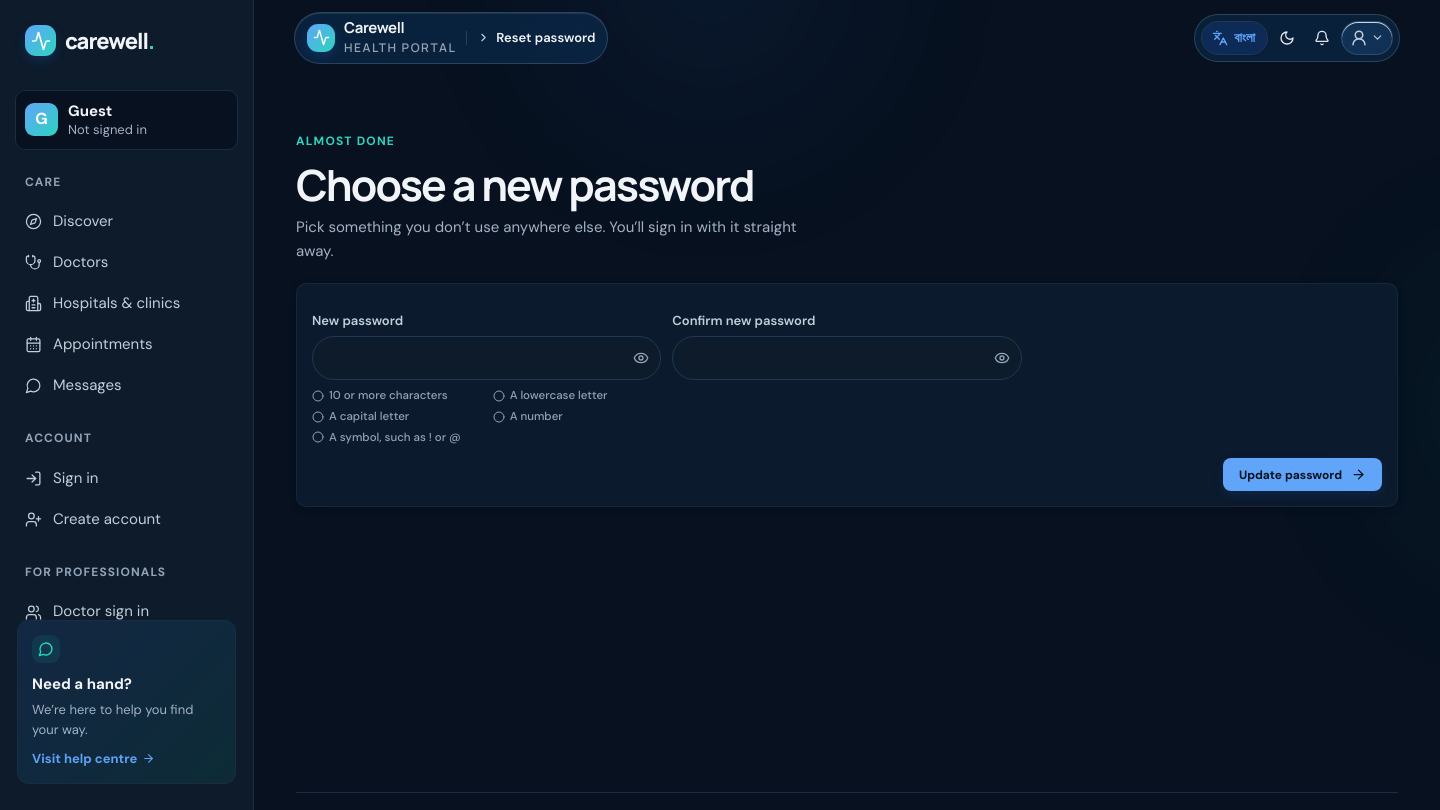
Test: reset password screen › checks the new password before submitting
Type "short" into the password field labelled "New password" at (487, 358), box [312,336,661,380]
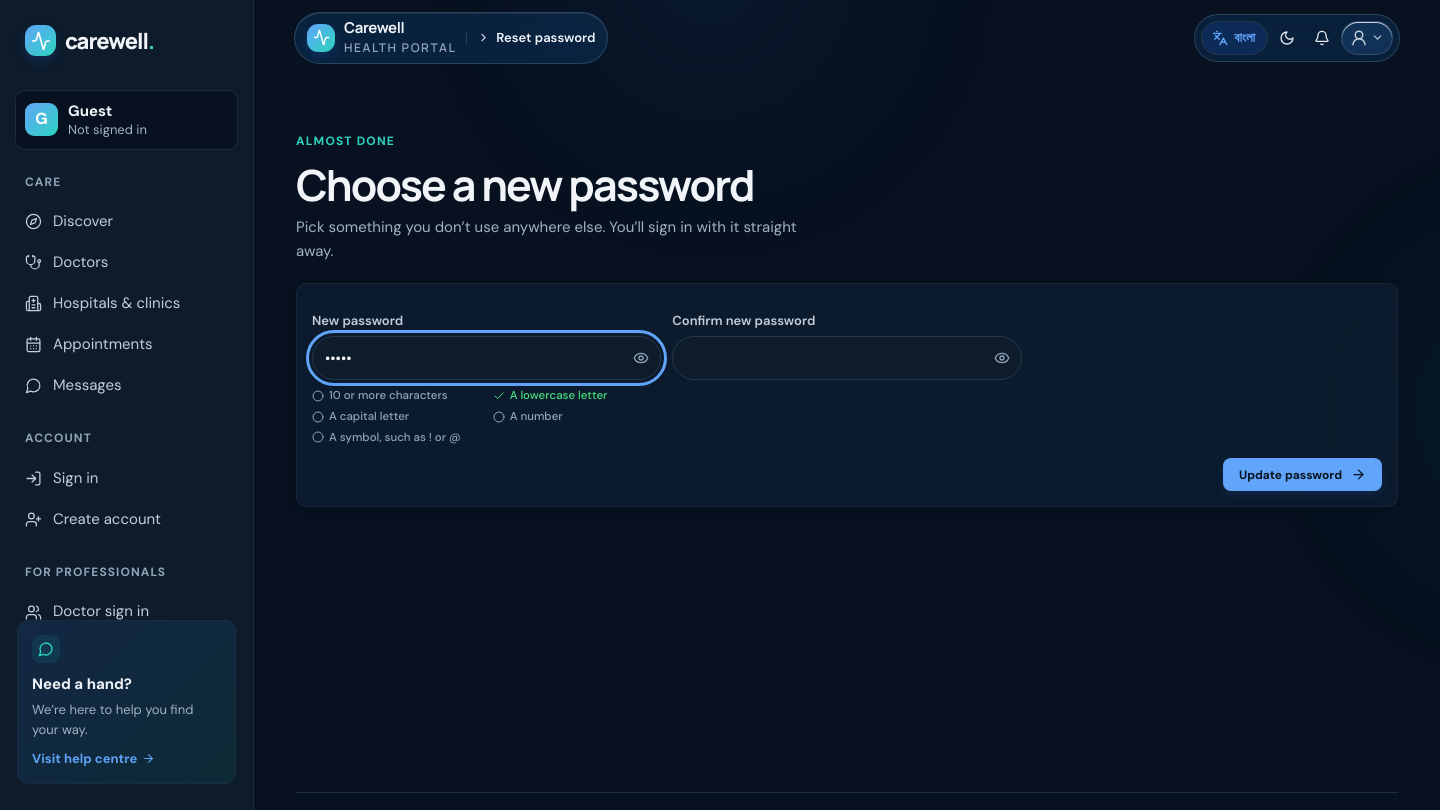
Type "different" into the password field labelled "Confirm new password" at (847, 358), box [672,336,1022,380]
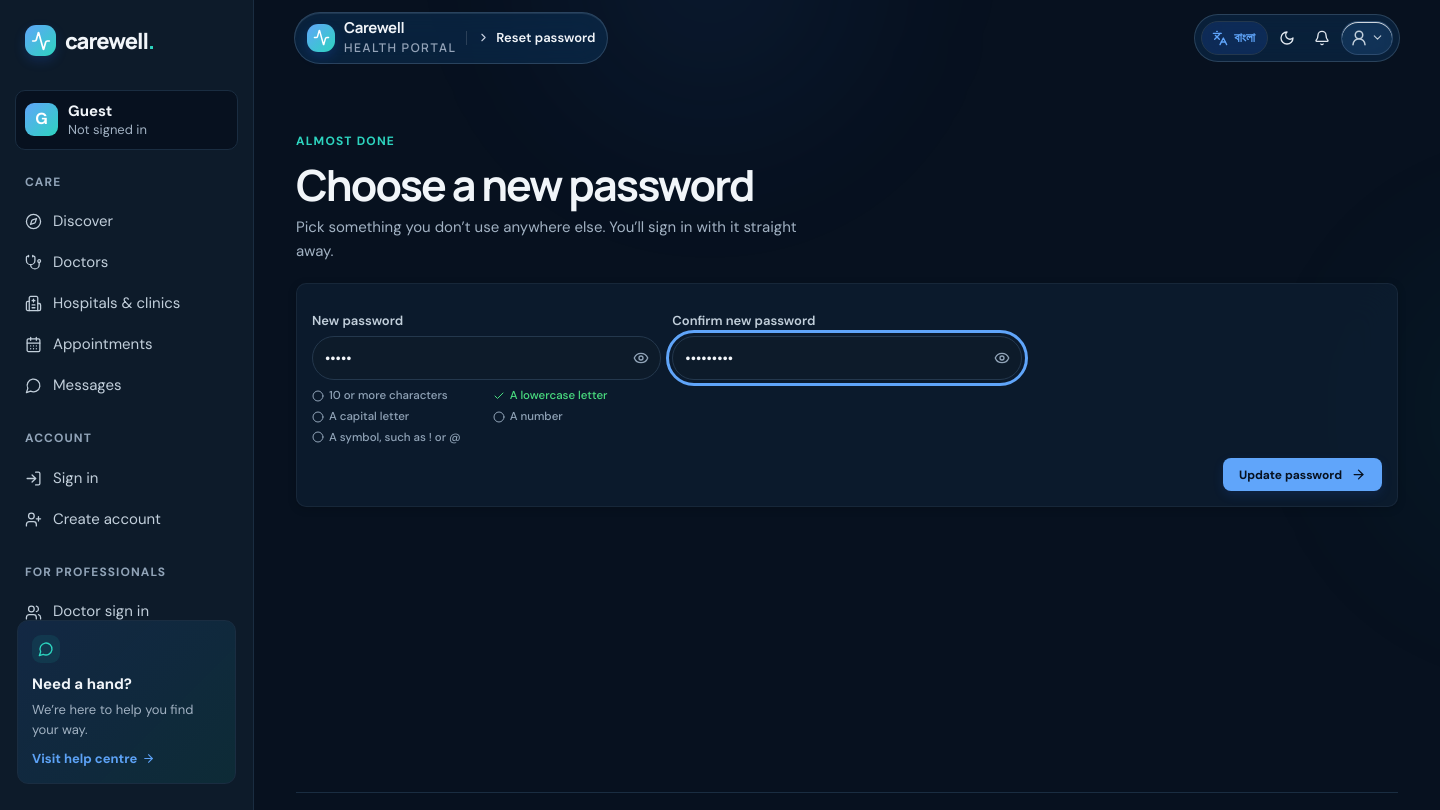
Click the button "Update password" at (1302, 475), box [1223,458,1382,491]
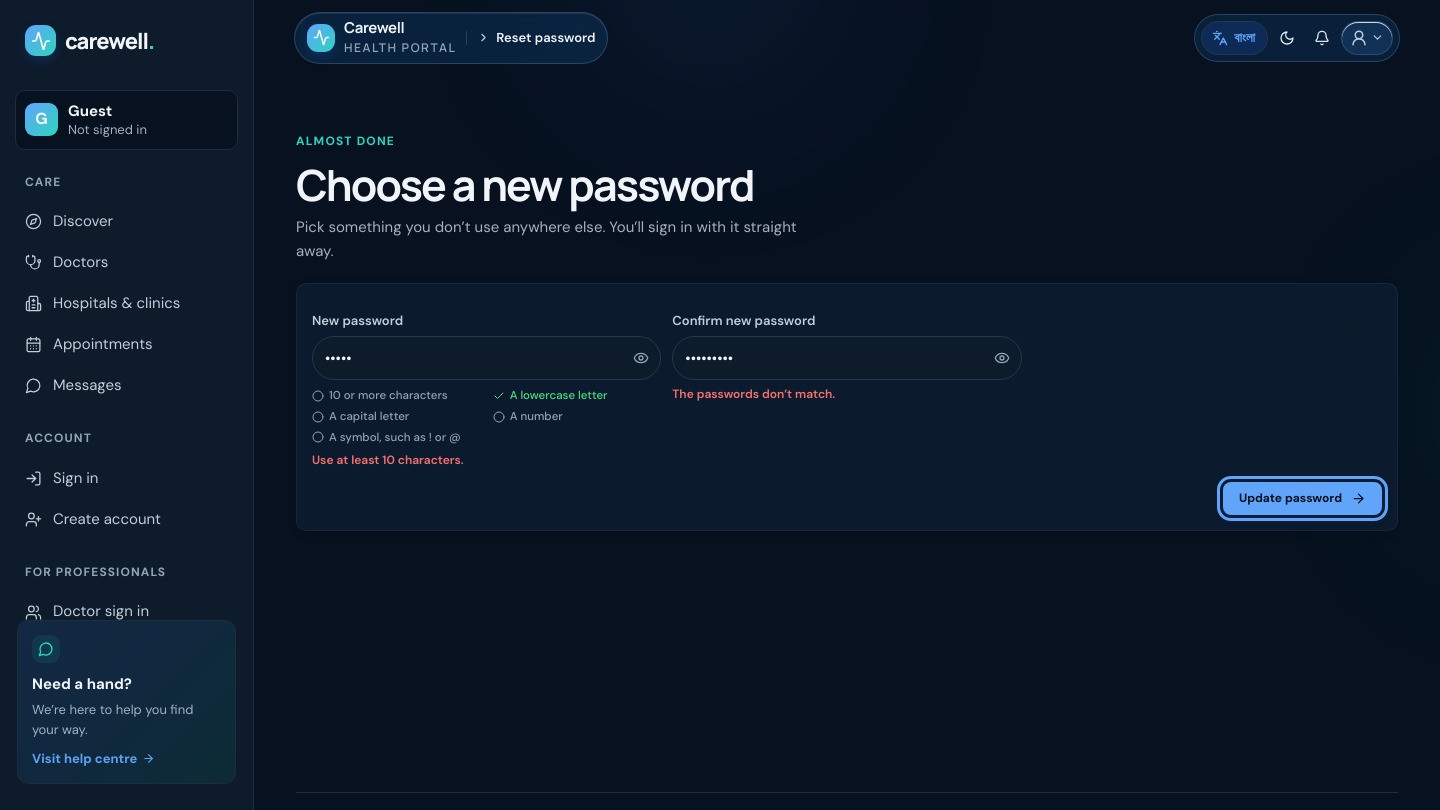
Check: the text "Use at least 10 characters." is shown, box [312,452,464,468]
Check: the text "The passwords don’t match." is shown, box [672,386,835,402]
